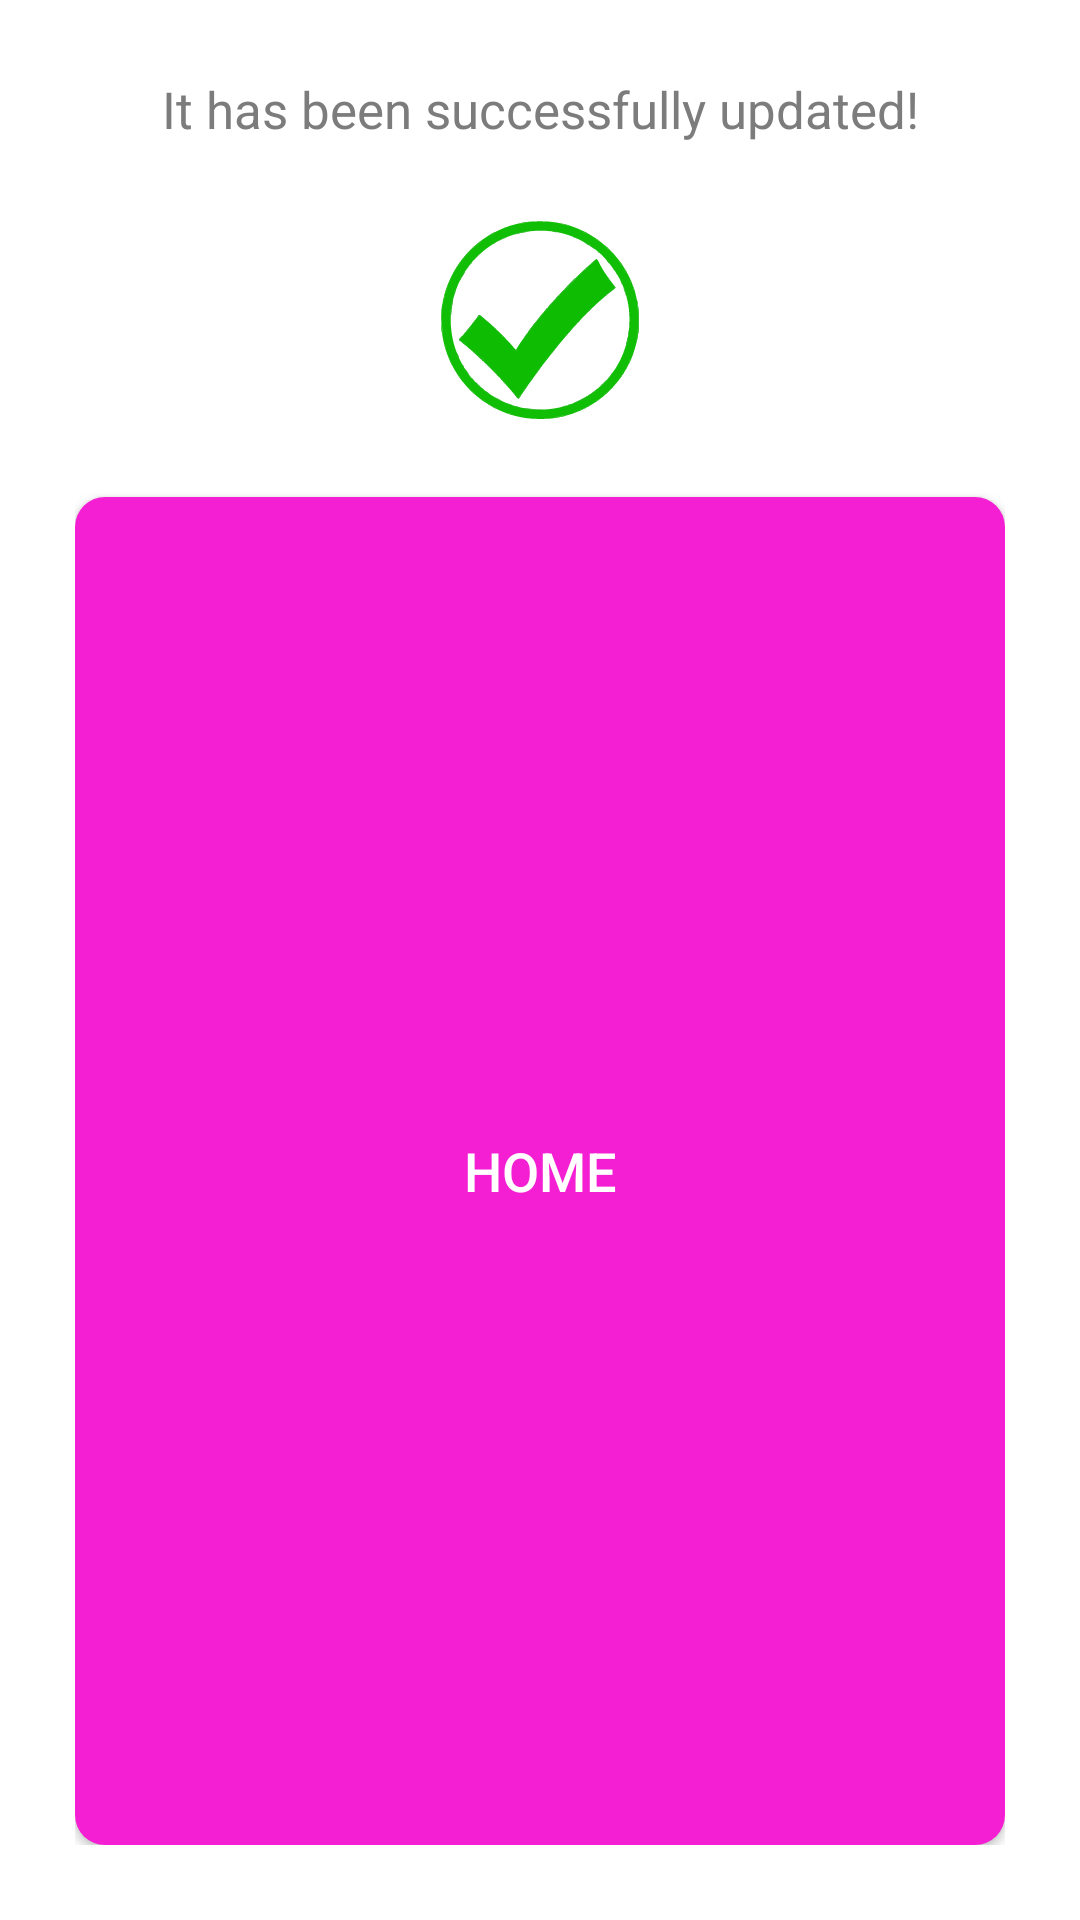

Where to tap for icons on this 1080*1920 app screen, as (x=x, y=y):
check: (x=540, y=320)
